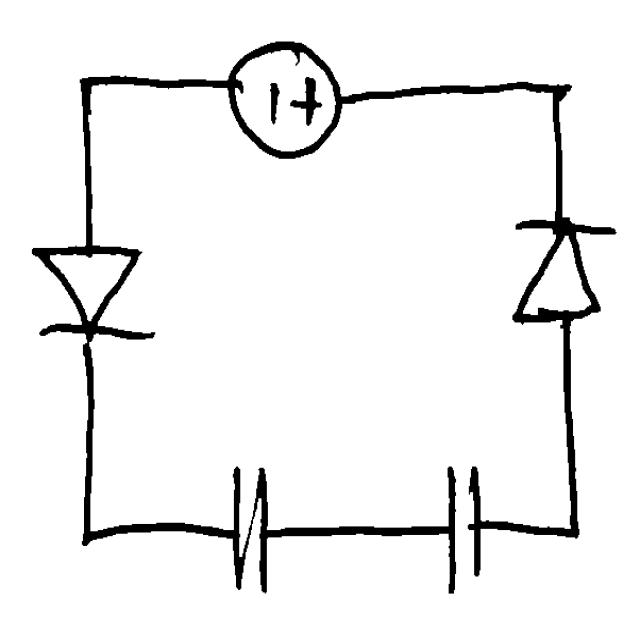capacitor: (209, 440, 295, 608), (430, 435, 502, 599)
dc: (225, 28, 349, 162)
diode: (19, 221, 165, 367), (502, 199, 624, 341)
